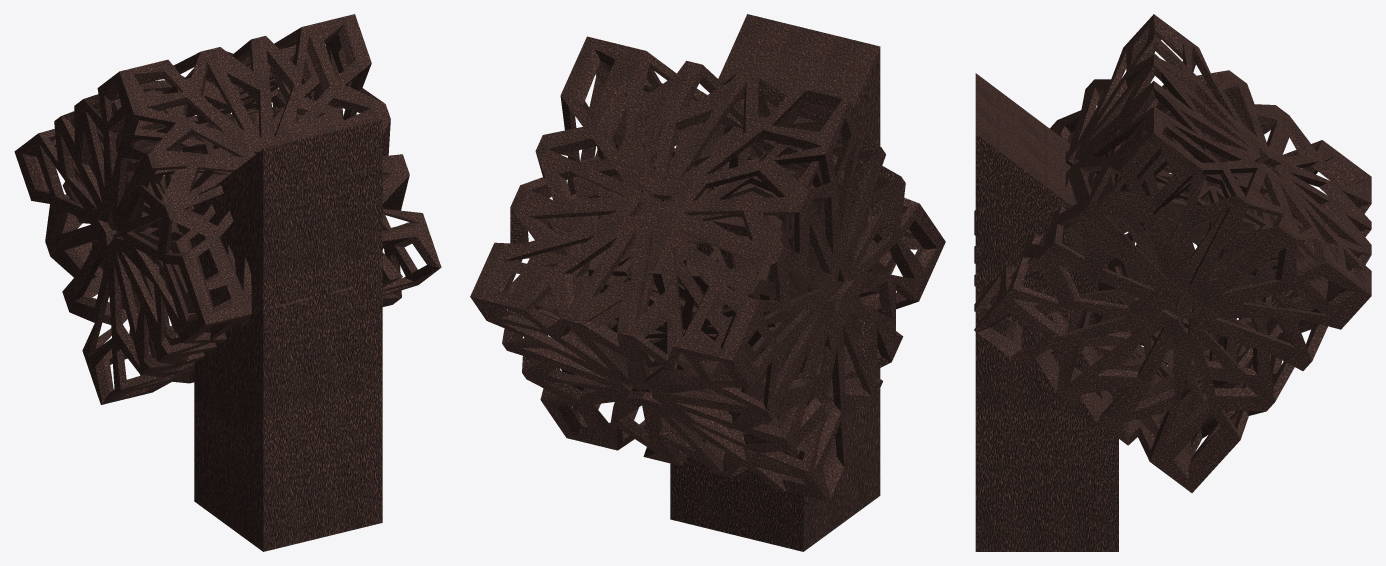
Rendered from кубСтатуя.glb.
3 renders of one model, left to right at view 1: azimuth 30°, elevation 25°; view 2: azimuth 150°, elevation 25°; view 3: azimuth 270°, elevation 25°, orthographic. The views are drawn at different scales.
Parts seen in each view (by area): view 1: кубСтатуя; view 2: кубСтатуя; view 3: кубСтатуя.
Part boxes in pixels (x1,y1,x2,y2): кубСтатуя: (14,14,441,551); кубСтатуя: (470,14,945,551); кубСтатуя: (974,14,1371,551).
Bounding box in the file's own units: 1.2 × 2.1 × 1.69.
1 material, 1 textured.
